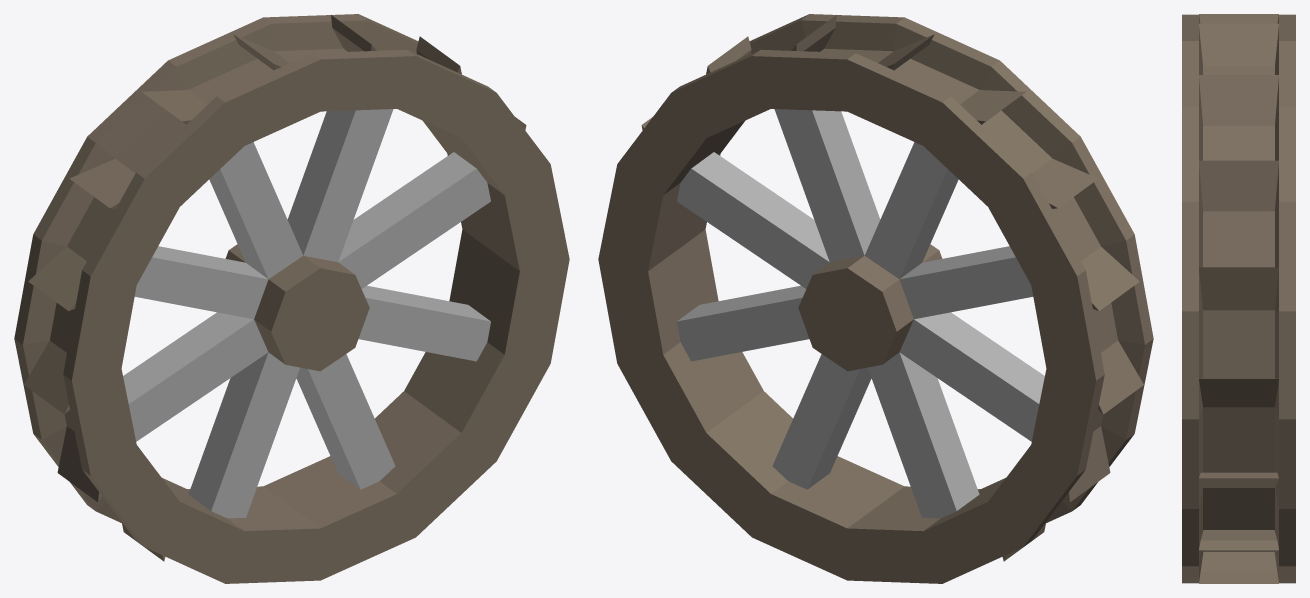
File: steampunk_wheel.fbx
The picture shows the model from 3 angles, left to right: view 1: azimuth 30°, elevation 25°; view 2: azimuth 150°, elevation 25°; view 3: azimuth 270°, elevation 25°; orthographic projection.
Parts seen in each view (by area): view 1: Cylinder.015; view 2: Cylinder.015; view 3: Cylinder.015.
Part boxes in pixels (box(x1,y1,x2,y2)): Cylinder.015: box(14, 14, 569, 583); Cylinder.015: box(598, 14, 1153, 583); Cylinder.015: box(1182, 14, 1295, 583).
Bounding box in the file's own units: 2 × 2 × 0.4.
